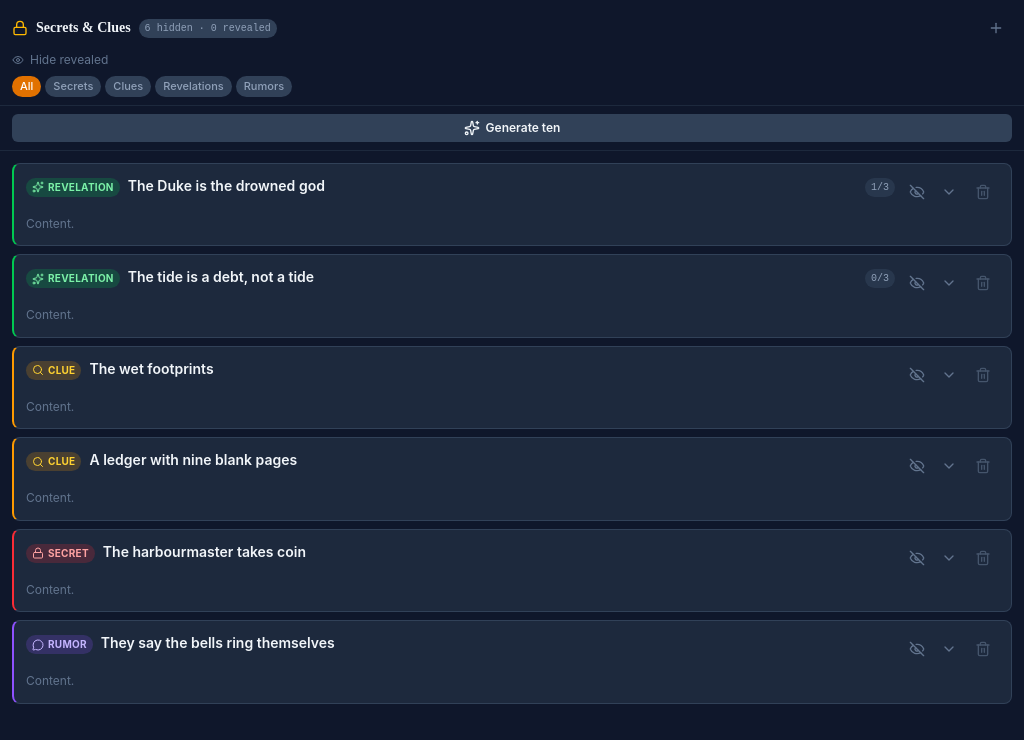
Test case: SecretsTracker — the clues-needed control › appears on a vital revelation and defaults to three
Click the button "The Duke is the drowned god". click: (226, 185)
box: top-left (128, 176), bottom-right (857, 196)
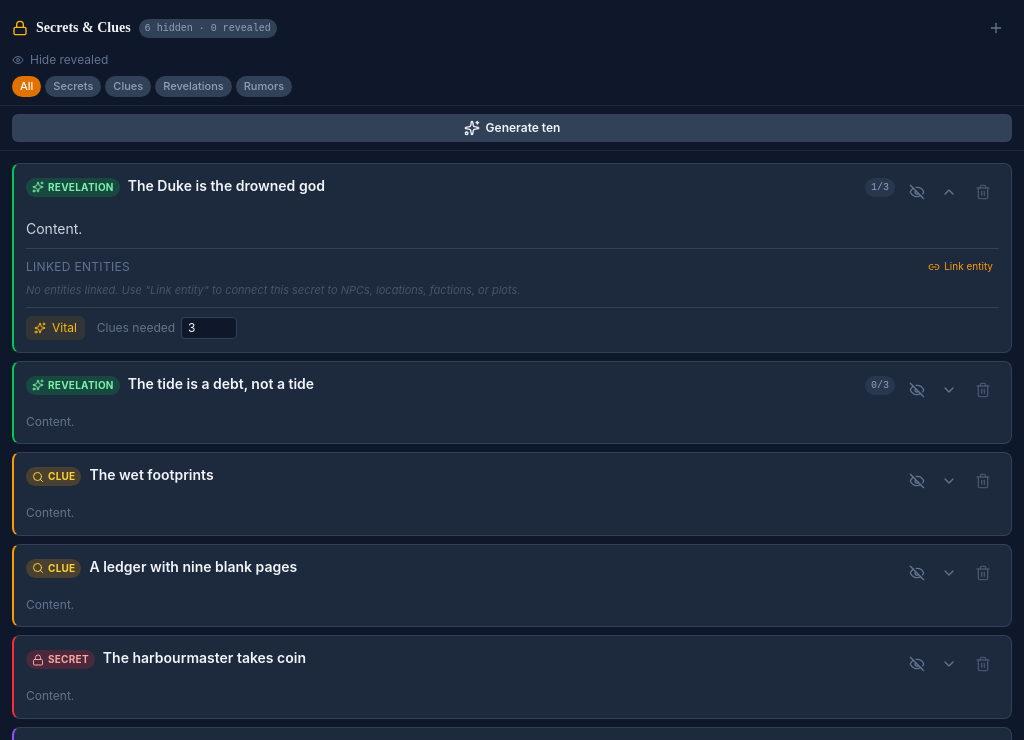
Result: the number field named "clues needed" holds "3" at top-left (181, 317), bottom-right (237, 339)
